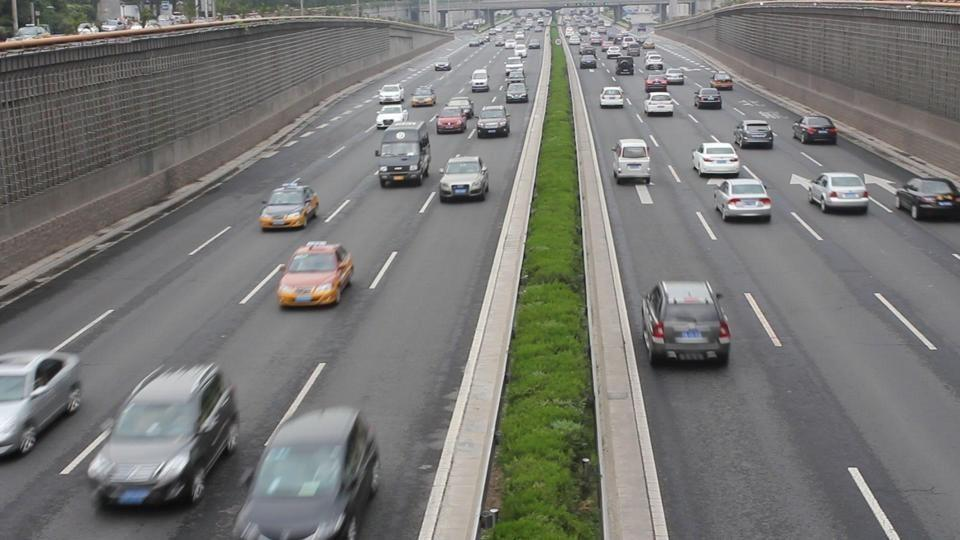car: (86, 360, 242, 511), (232, 405, 383, 540), (0, 349, 84, 460), (639, 279, 734, 367), (275, 241, 355, 309), (374, 119, 433, 188), (259, 181, 320, 231), (895, 175, 960, 221), (712, 176, 773, 223), (807, 172, 870, 215), (437, 155, 490, 203), (610, 138, 652, 184), (691, 141, 742, 177), (792, 113, 839, 145), (732, 119, 775, 149), (475, 105, 511, 139), (435, 104, 472, 134), (643, 92, 676, 118), (409, 85, 437, 109), (693, 87, 722, 109), (599, 86, 625, 109), (378, 83, 405, 105), (470, 69, 489, 93), (434, 61, 452, 72)
